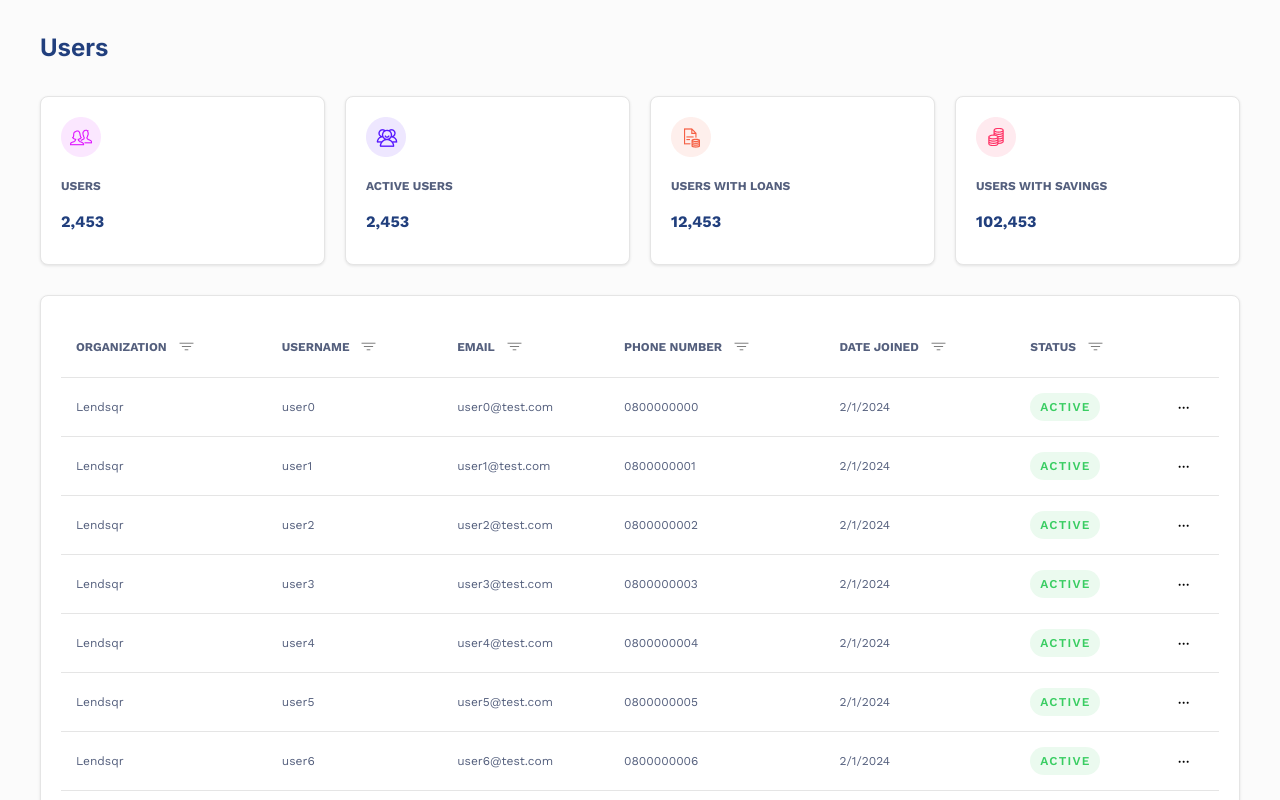
Test case: UserPage › shows 'No users found' when filter has no matches
expect the text "user0" is shown: met, box [267,378,442,436]
Click the button named "filter" next to "USERNAME" at (369, 346), box [354,331,384,362]
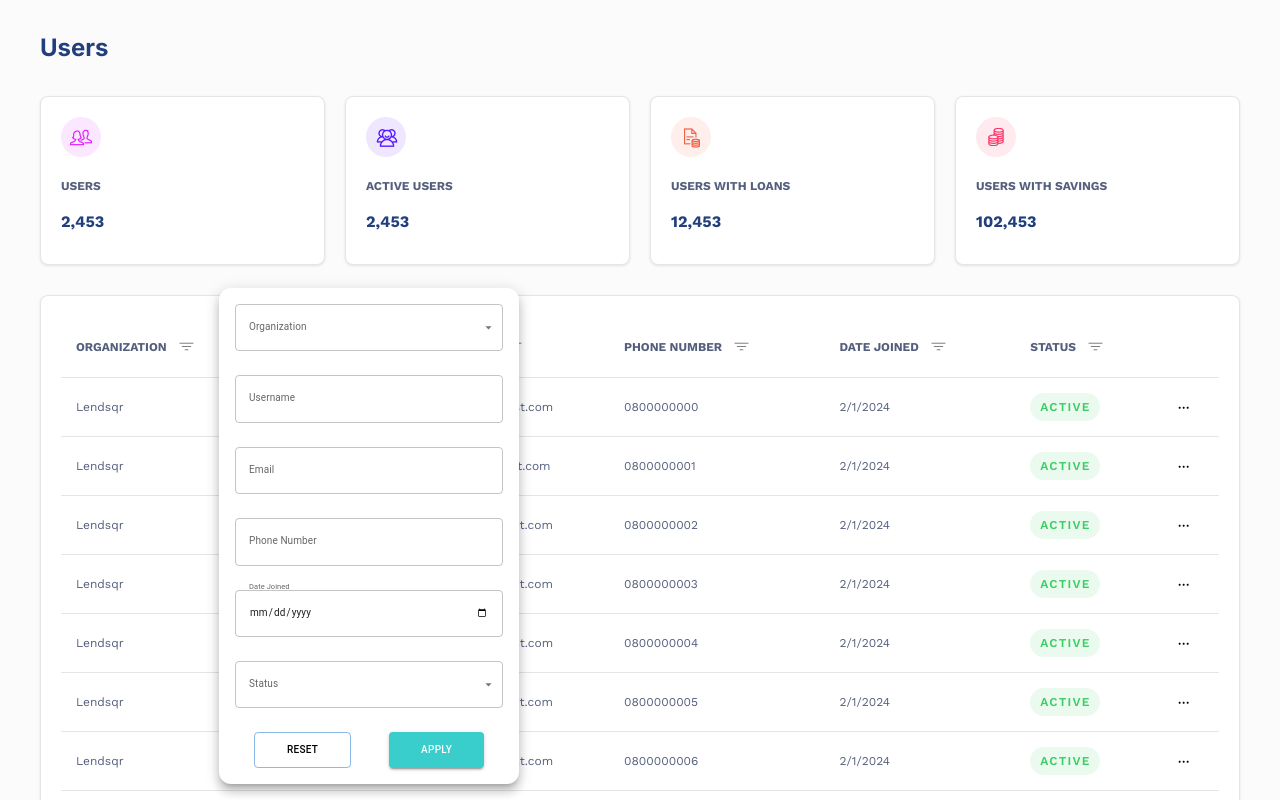
Type "noSuchUser" into the field labelled "Username" at (369, 399), box [235,375,503,423]
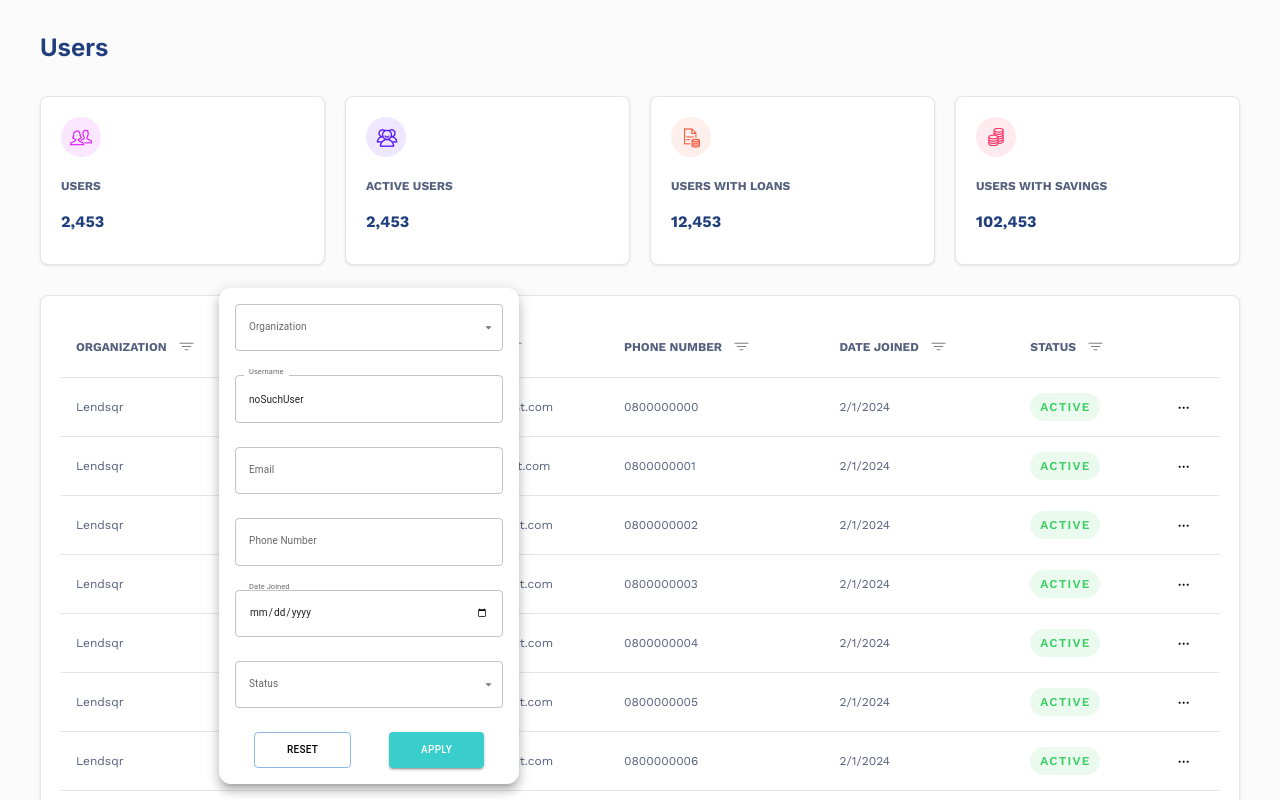
Click the button "Apply" at (436, 750), box [389,732,484,768]
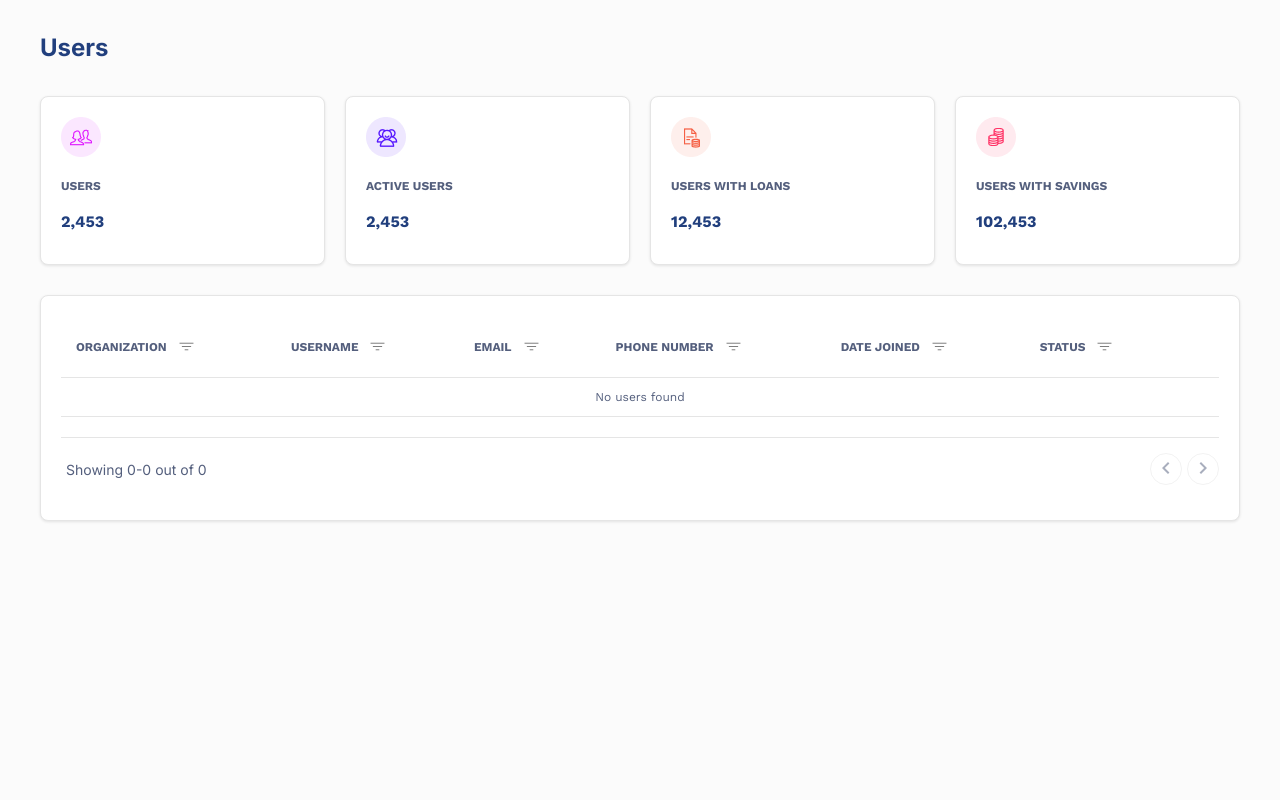
expect the text "No users found" is shown: met, box [61,378,1219,416]
